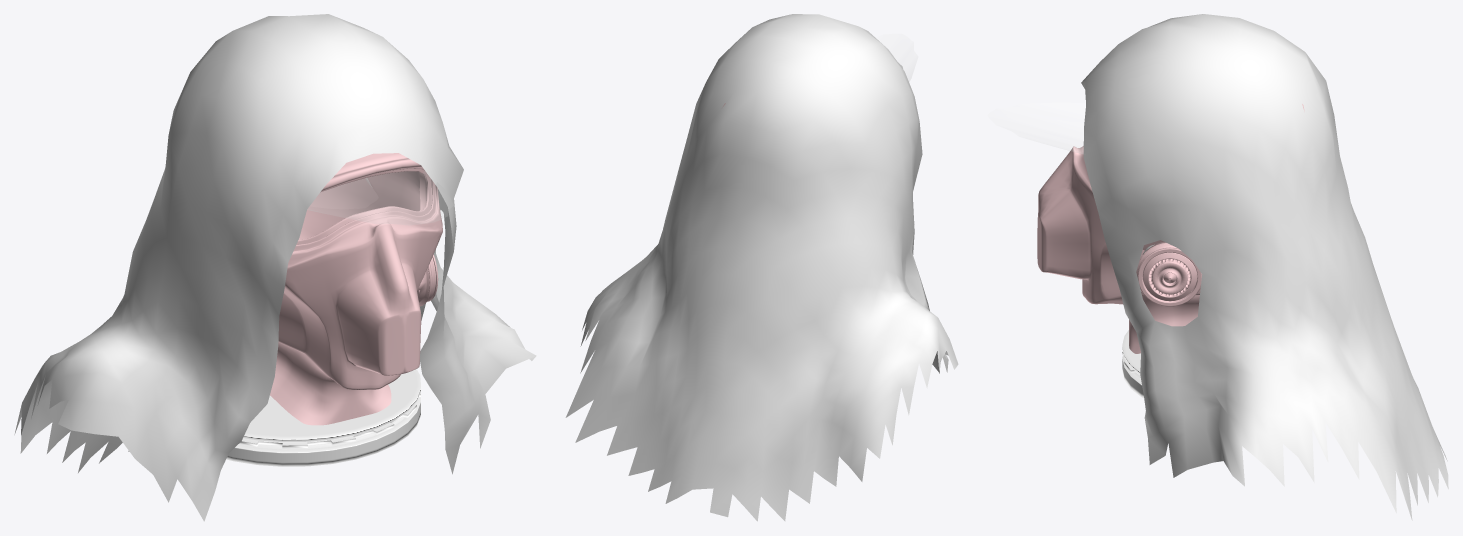
Rendered from Jegrah Fough helmet.glb.
3 renders of one model, left to right at view 1: azimuth 30°, elevation 25°; view 2: azimuth 150°, elevation 25°; view 3: azimuth 270°, elevation 25°, orthographic. The views are drawn at different scales.
Parts seen in each view (by area): view 1: Plane, Sphere.002, Cylinder.002, Sphere.004, Cylinder; view 2: Plane, Sphere.004; view 3: Plane, Sphere.002, Sphere.004, Cylinder, Cylinder.002.
Part boxes in pixels (x1=…): Plane: x1=14, y1=14, x2=536, y2=521; Sphere.002: x1=270, y1=153, x2=442, y2=425; Cylinder.002: x1=226, y1=369, x2=420, y2=466; Sphere.004: x1=307, y1=171, x2=453, y2=225; Cylinder: x1=417, y1=254, x2=438, y2=306; Plane: x1=565, y1=14, x2=958, y2=521; Sphere.004: x1=876, y1=34, x2=917, y2=81; Plane: x1=1081, y1=14, x2=1448, y2=520; Sphere.002: x1=1037, y1=104, x2=1304, y2=353; Sphere.004: x1=988, y1=103, x2=1085, y2=153; Cylinder: x1=1136, y1=242, x2=1202, y2=306; Cylinder.002: x1=1122, y1=330, x2=1144, y2=398.
Size of what is drawn, in the model's own units: 1.5 by 1.58 by 1.47.
